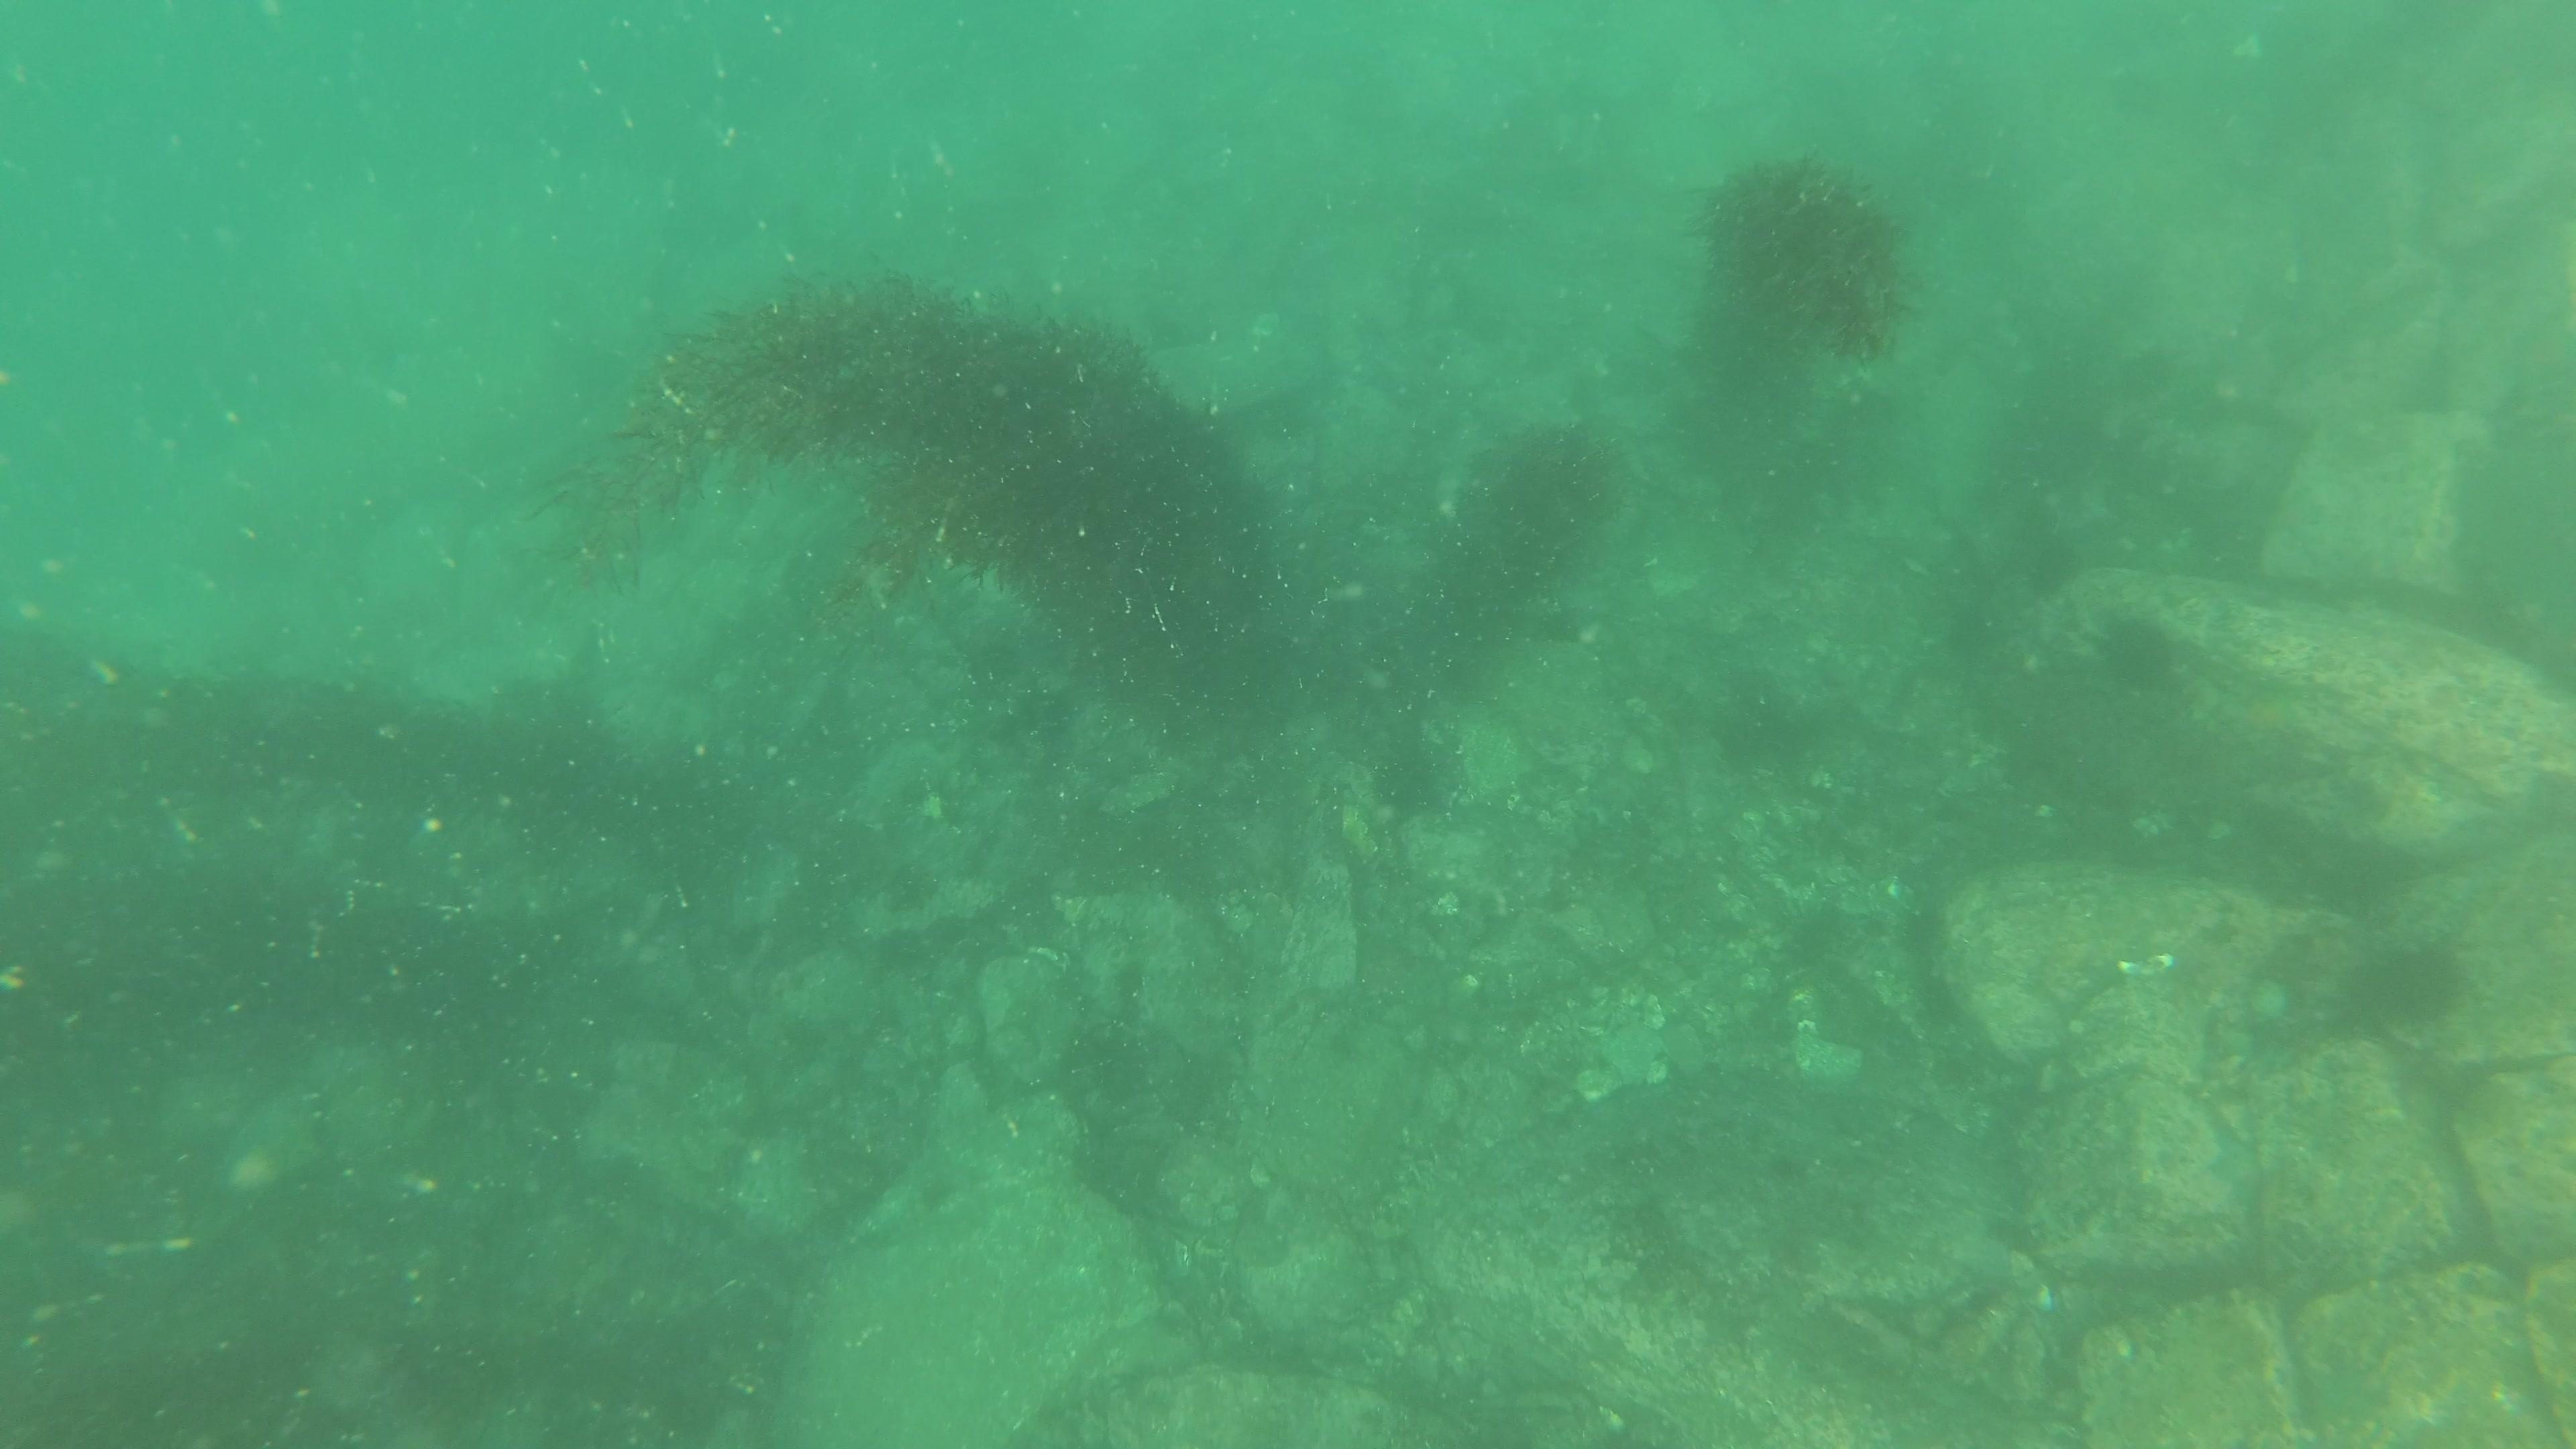echinus: (2335, 931, 2475, 1042), (2086, 605, 2190, 704)
